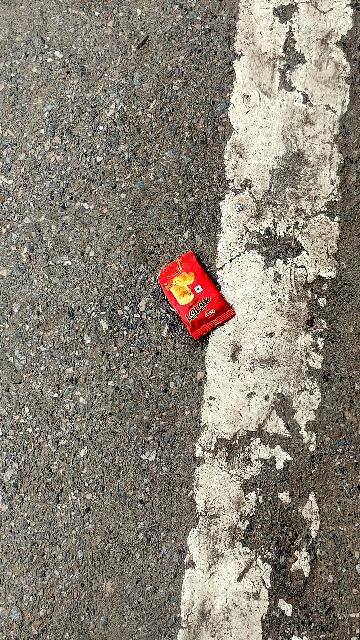packet: (148, 249, 239, 352)
